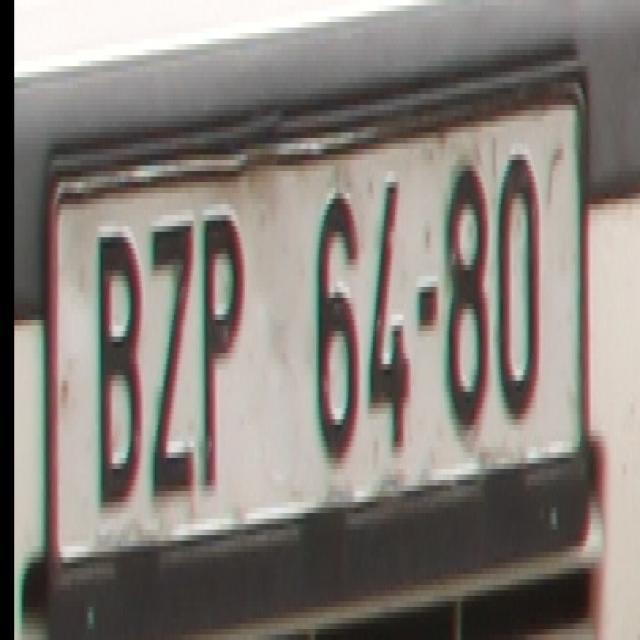0: (498, 143, 542, 414)
4: (368, 170, 412, 464)
6: (313, 193, 363, 474)
8: (442, 154, 490, 436)
B: (91, 220, 142, 508)
P: (199, 204, 248, 491)
Z: (146, 198, 198, 496)
